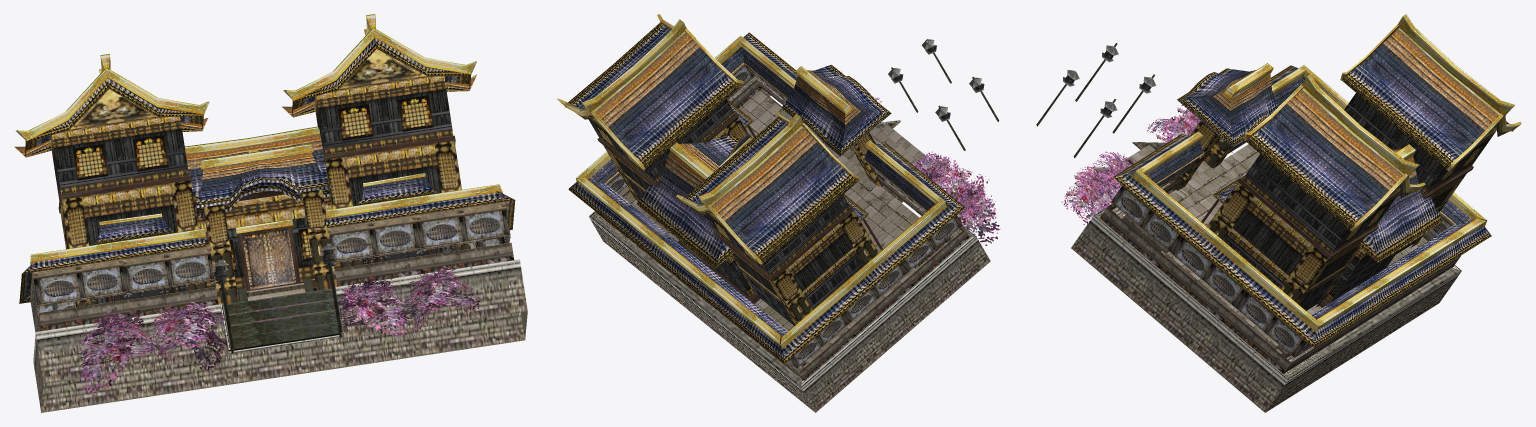
The model's file is toshogu_shrine.fbx.
The picture shows the model from 3 angles, left to right: view 1: azimuth 30°, elevation 25°; view 2: azimuth 150°, elevation 25°; view 3: azimuth 270°, elevation 25°; orthographic projection. The views are drawn at different scales.
Parts seen in each view (by area): view 1: Object01, Object02; view 2: Object01, Object02; view 3: Object01, Object02.
Boxes of the visible parts, left/top/right/bottom form: Object01: left=14, top=14, right=527, bottom=412; Object02: left=30, top=201, right=514, bottom=333; Object01: left=556, top=14, right=1000, bottom=412; Object02: left=596, top=60, right=969, bottom=380; Object01: left=1036, top=14, right=1521, bottom=412; Object02: left=1100, top=140, right=1460, bottom=373.
Bounding box in the file's own units: 15.01 × 14.68 × 11.08.
Materials: 1 (1 with a texture image).
